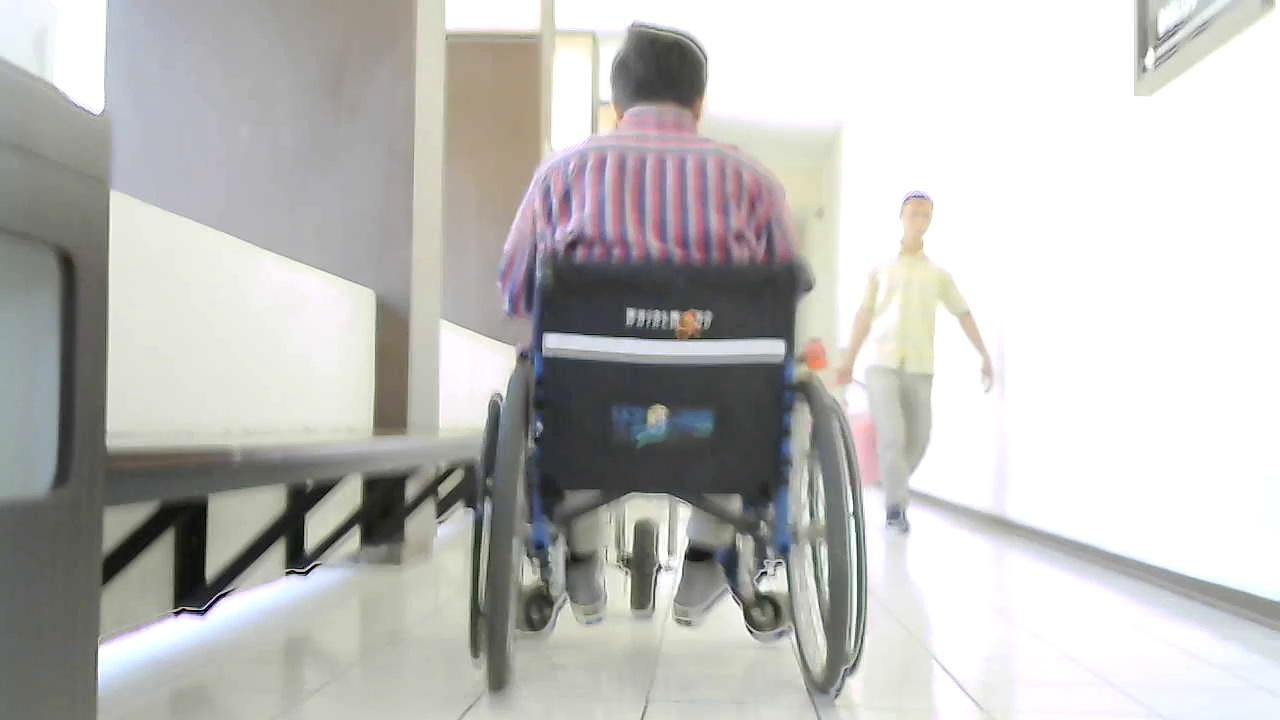person: (495, 20, 816, 349), (841, 192, 998, 531)
wheelchair: (437, 246, 883, 714)
